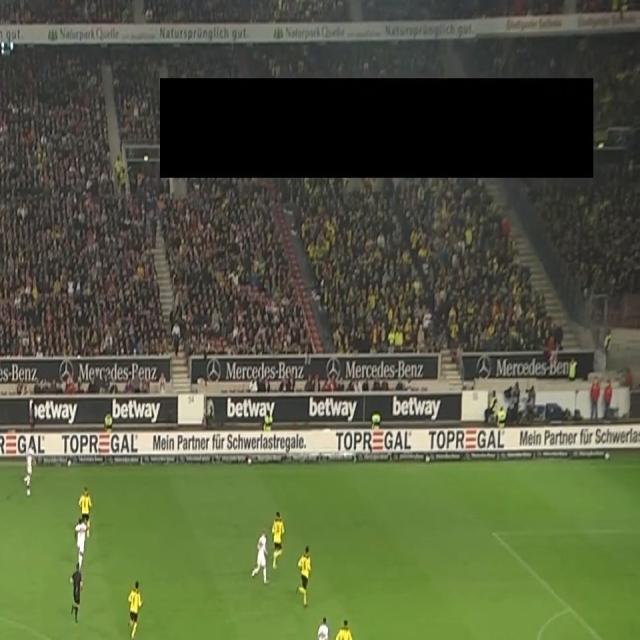ball: (26, 487, 32, 498)
